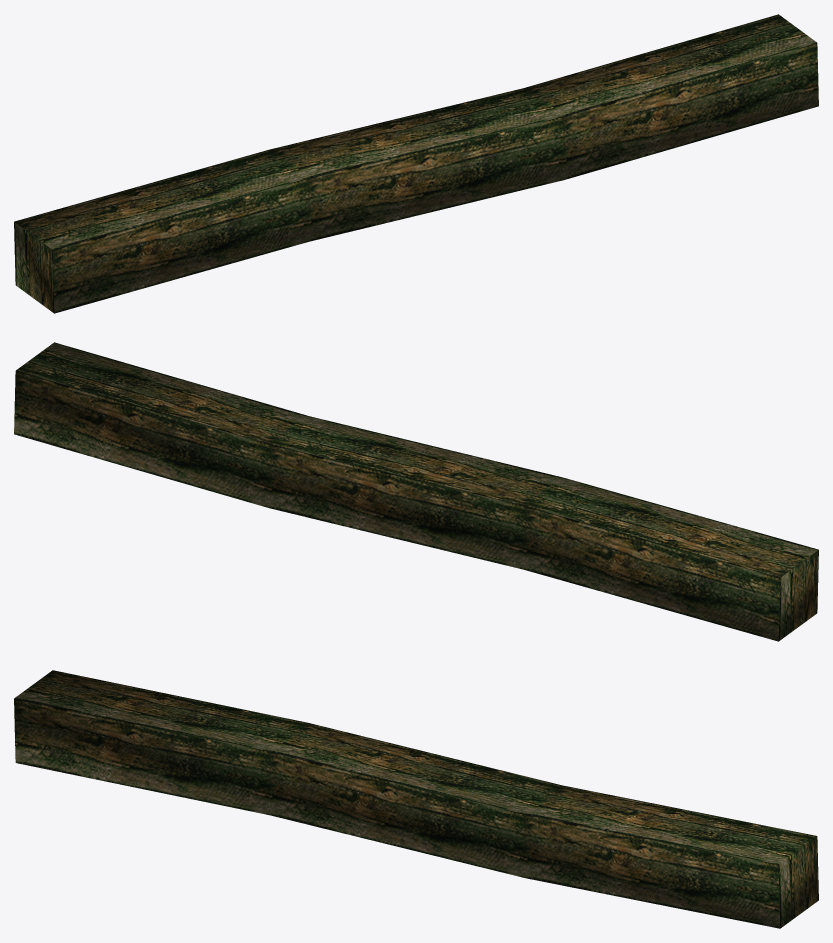
Rendered from wooden_beam.obj.
3 views of the same model, one above another, from view 1: azimuth 30°, elevation 25°; view 2: azimuth 150°, elevation 25°; view 3: azimuth 330°, elevation 25° (orthographic).
Parts seen in each view (by area): view 1: Box007; view 2: Box007; view 3: Box007.
Boxes of the visible parts, box(x1,y1,x2,y2) form: Box007: box(14, 14, 818, 313); Box007: box(14, 342, 818, 641); Box007: box(14, 670, 818, 928).
Size of the model in its own units: 3206 by 339 by 281.
